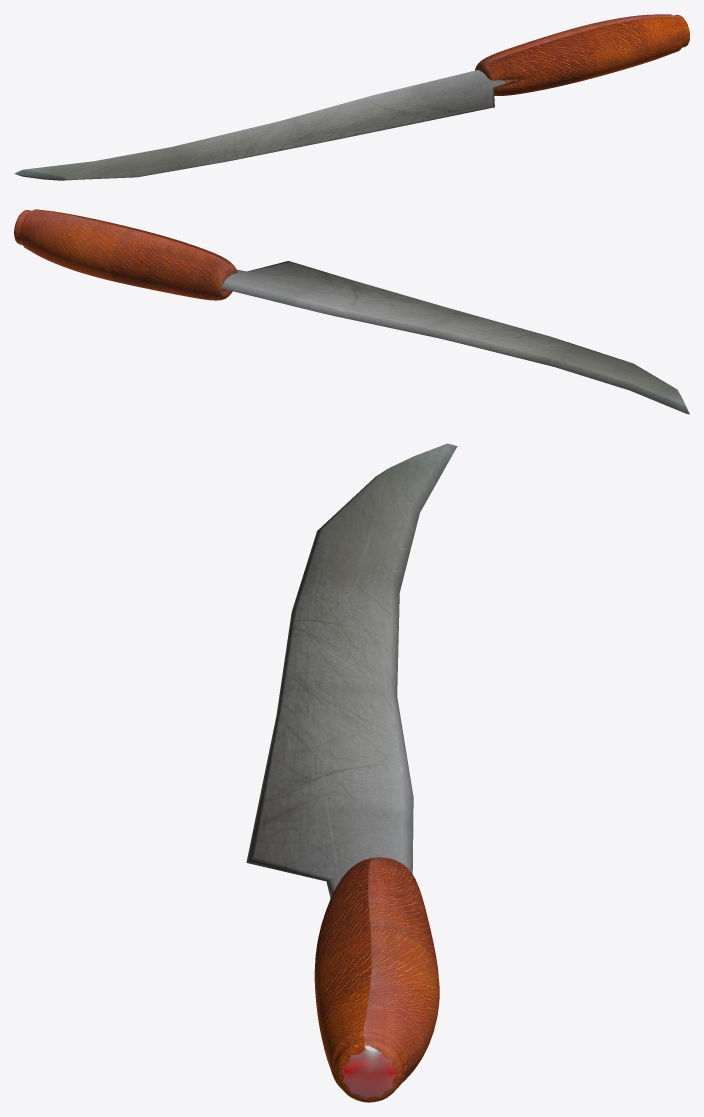
The model's file is steak knife.fbx.
The picture shows the model from 3 angles, top to bottom: view 1: azimuth 30°, elevation 25°; view 2: azimuth 150°, elevation 25°; view 3: azimuth 270°, elevation 25°; orthographic projection. The views are drawn at different scales.
Parts seen in each view (by area): view 1: polySurface5, polySurface6; view 2: polySurface5, polySurface6; view 3: polySurface5, polySurface6.
Boxes of the visible parts, bbox=[...] form: polySurface5: bbox=[14, 70, 520, 180]; polySurface6: bbox=[475, 14, 689, 95]; polySurface5: bbox=[221, 261, 689, 414]; polySurface6: bbox=[14, 209, 237, 300]; polySurface5: bbox=[246, 443, 457, 898]; polySurface6: bbox=[314, 857, 439, 1102].
Size of the model in its own units: 51.76 by 3.61 by 7.3.
